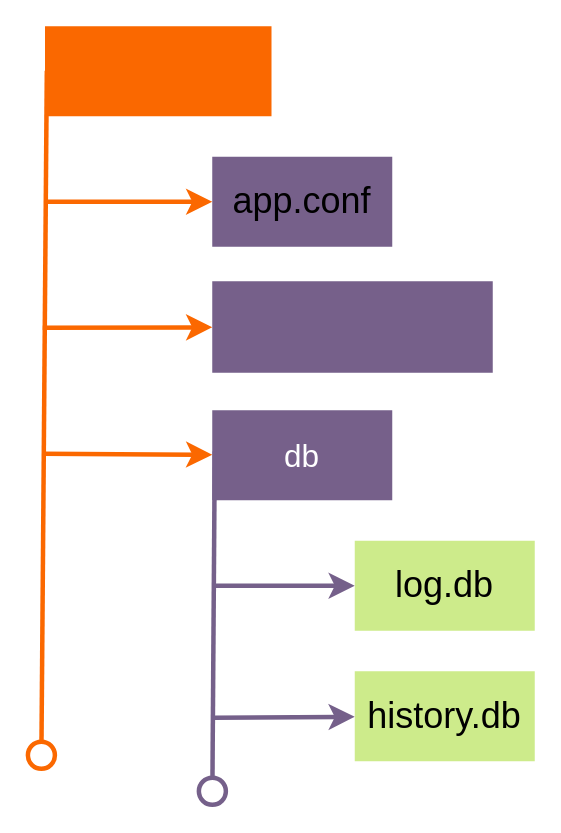
This 561x833 diagram has some shape labels left out. The shapes that lost their labels are listed below. From the top down, each one's box as (x1, y1, x2, y2) in pixels, then its label:
(44, 26, 271, 116): 资源文件分布
(212, 280, 492, 372): backend （ subconverter ）
